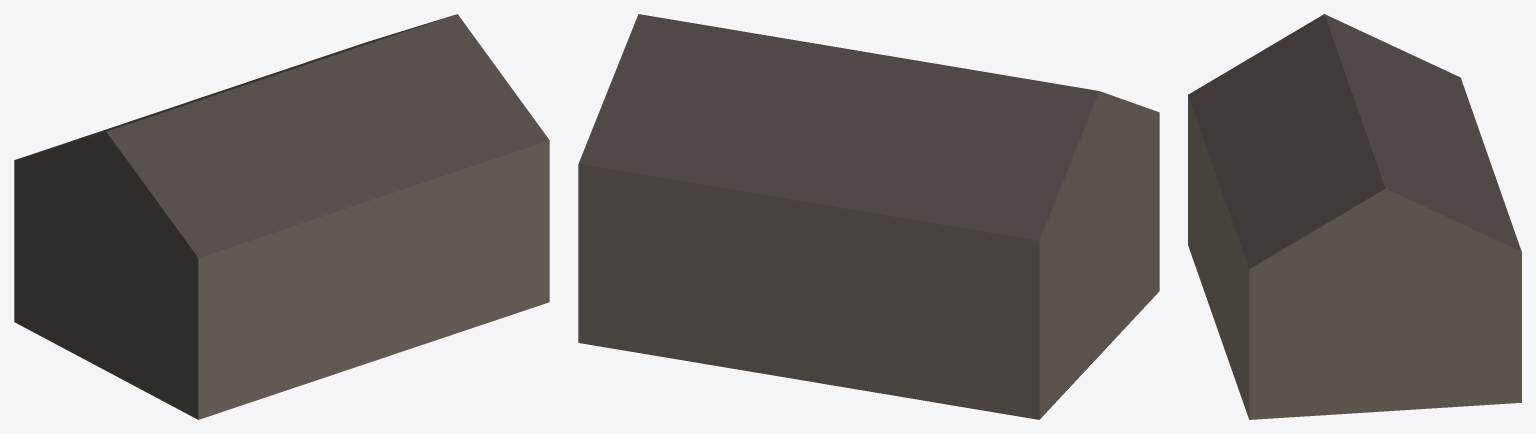
3 views of the same model, side by side, from view 1: azimuth 30°, elevation 25°; view 2: azimuth 150°, elevation 25°; view 3: azimuth 270°, elevation 25° (orthographic). The views are drawn at different scales.
Parts seen in each view (by area): view 1: HP-w1200835407; view 2: HP-w1200835407; view 3: HP-w1200835407.
Part boxes in pixels (bbox=[...]): HP-w1200835407: bbox=[14, 14, 549, 419]; HP-w1200835407: bbox=[578, 14, 1159, 419]; HP-w1200835407: bbox=[1188, 14, 1521, 419].
Size of the model in its own units: 16.37 by 8.87 by 12.04.
